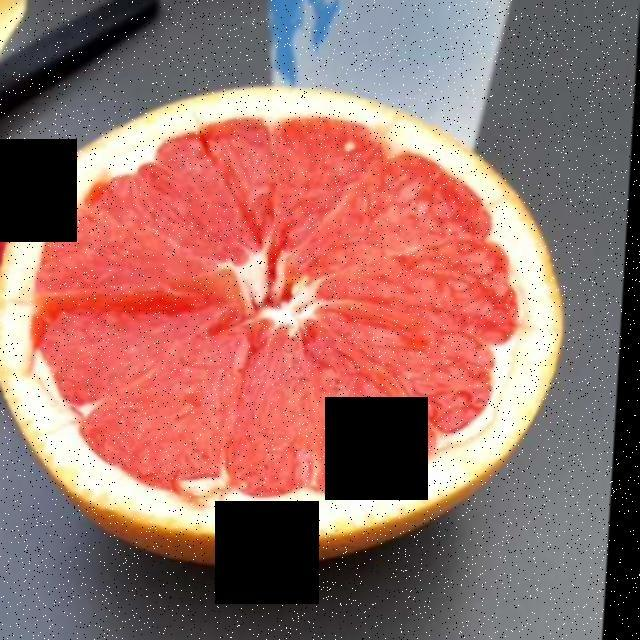grapefruit-pomelo: (1, 98, 557, 551)
